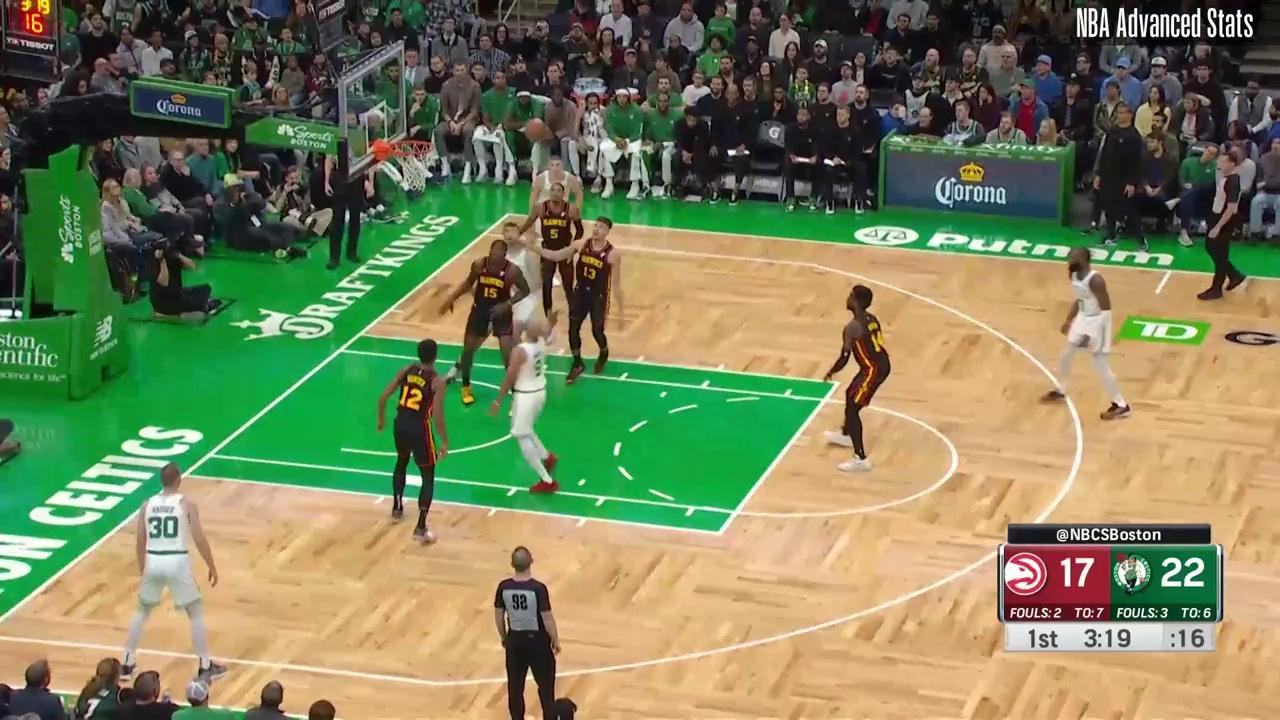3_dx: (482, 231, 487, 236)
b_dx: (505, 212, 510, 217)
free_adx: (833, 379, 840, 386)
free_asx: (717, 529, 724, 537)
free_bdx: (358, 330, 365, 337)
free_bsx: (181, 470, 189, 479)
mid_dx: (1154, 291, 1160, 296)
referee: (495, 547, 562, 720), (1198, 152, 1246, 301), (324, 126, 366, 268)
team: (119, 463, 229, 682), (1037, 244, 1131, 419), (448, 222, 539, 396), (493, 318, 559, 493), (528, 153, 584, 285)
team1: (442, 239, 530, 407), (378, 338, 449, 543), (824, 284, 891, 474), (557, 215, 622, 384), (516, 182, 584, 343)
timer: (1082, 625, 1135, 652)
